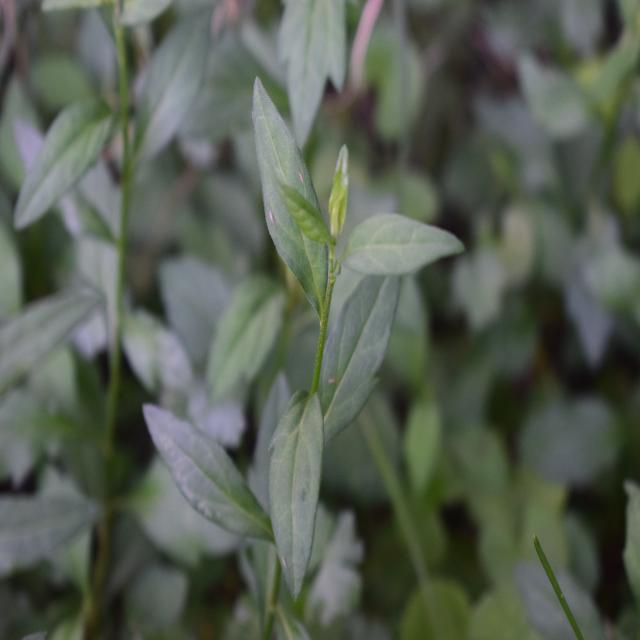Indian aster: (159, 89, 445, 600)
